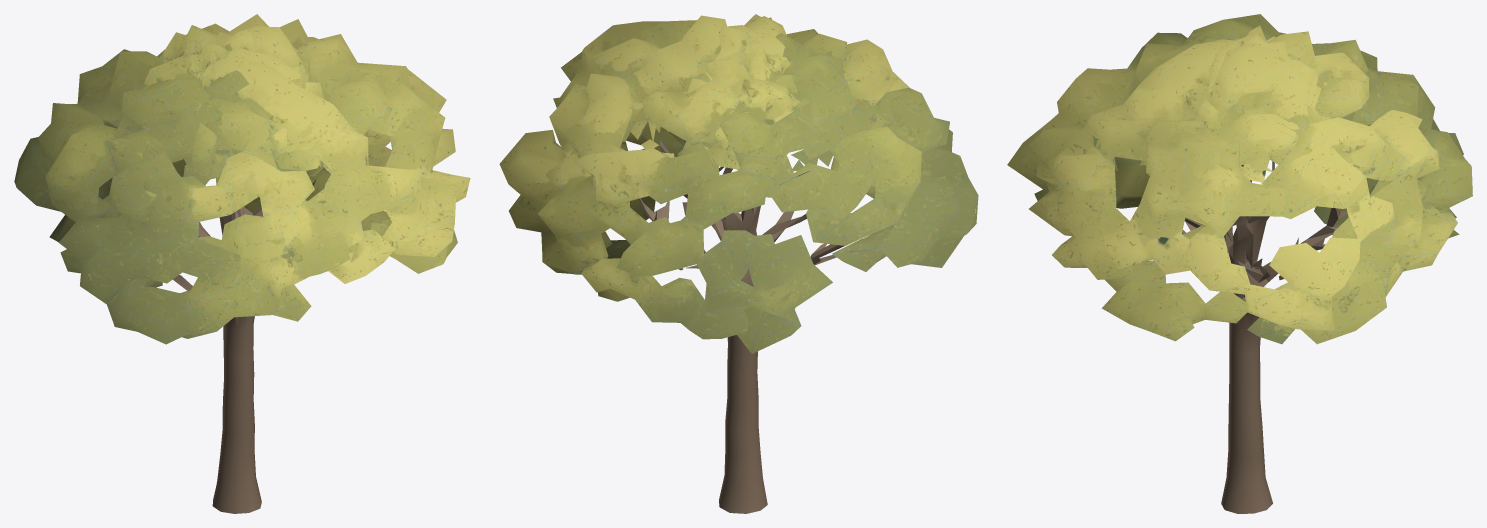
Rendered from tree_round_a.glb.
3 views of the same model, side by side, from view 1: azimuth 30°, elevation 25°; view 2: azimuth 150°, elevation 25°; view 3: azimuth 270°, elevation 25° (orthographic). The views are drawn at different scales.
Visible parts, largest first — view 1: body; view 2: body; view 3: body.
Part boxes in pixels (left/top/right/bottom): body: left=14, top=14, right=470, bottom=513; body: left=499, top=14, right=978, bottom=513; body: left=1007, top=14, right=1472, bottom=513.
Size of the model in its own units: 4.86 by 5.45 by 4.87.
Materials: 2 (2 with a texture image).
